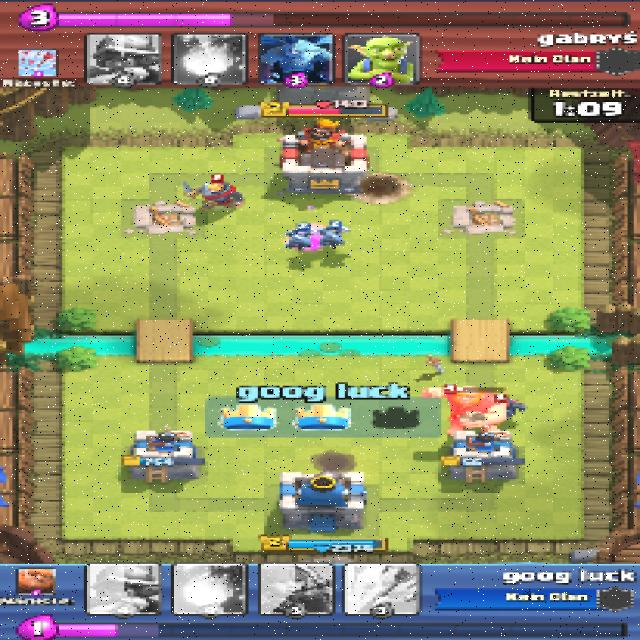Enemy-Giant: (421, 386, 509, 432)
Enemy-Knight: (175, 178, 245, 208)
Enemy-MiniPEKKA: (502, 398, 524, 417)
Player-Minion: (316, 225, 348, 248), (282, 228, 313, 248)
